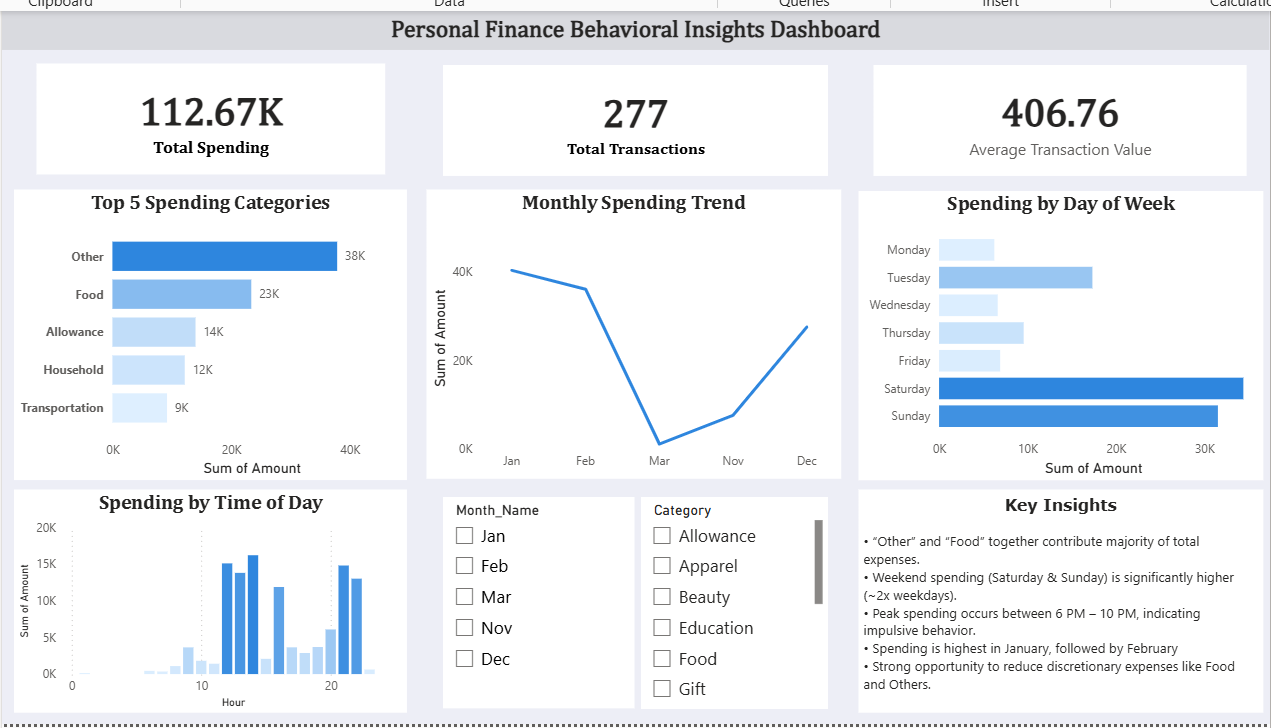

What the dashboard file says about the page in this screenshot:
{"tool":"powerbi","page":{"name":"Page 1","canvas":[1280,720],"ordinal":0},"visuals":[{"type":"textbox","box":[0,0,1279.5,39.4],"z":0},{"type":"card","fields":{"Values":["Sum(cleaned_expenses.Amount)"]},"box":[35,53.3,351.7,111.7],"z":1000},{"type":"card","fields":{"Values":["CountNonNull(cleaned_expenses.Total Transactions)"]},"box":[445,55,388.3,111.7],"z":2000},{"type":"card","fields":{"Values":["Avg(cleaned_expenses.Avg Transaction Value)"]},"box":[880,55,376.7,111.7],"z":3000},{"type":"clusteredBarChart","title":"Top 5 Spending Categories","fields":{"Category":["cleaned_expenses.Category"],"Y":["Sum(cleaned_expenses.Amount)"]},"box":[11.7,180,396.7,293.3],"z":4000},{"type":"lineChart","title":"Monthly Spending Trend","fields":{"Category":["cleaned_expenses.Month_Name"],"Y":["Sum(cleaned_expenses.Amount)"]},"box":[428.3,180,418.3,291.7],"z":5000},{"type":"clusteredBarChart","title":"Spending by Day of Week","fields":{"Category":["cleaned_expenses.Day_Name"],"Y":["Sum(cleaned_expenses.Amount)"]},"box":[865,181.7,408.3,291.7],"z":6000},{"type":"columnChart","title":"Spending by Time of Day","fields":{"Category":["cleaned_expenses.Hour"],"Y":["Sum(cleaned_expenses.Amount)"]},"box":[11.7,483.3,396.7,225],"z":7000},{"type":"slicer","fields":{"Values":["cleaned_expenses.Category"]},"box":[645,490,188.3,213.3],"z":8000},{"type":"textbox","box":[865,483.3,408.3,225],"z":9000},{"type":"slicer","fields":{"Values":["cleaned_expenses.Month_Name"]},"box":[445,490,193.3,213.3],"z":10000}]}

Visuals, with their boxes on the page's 1280x720 design canvas (x1, y1, x2, y2). These are canvas units, not pixel positions in the 1271x728 screenshot, which may show the page scaled, cropped or inside an application window:
textbox: select_region(0, 0, 1280, 39)
card - Sum(cleaned_expenses.Amount): select_region(35, 53, 387, 165)
card - CountNonNull(cleaned_expenses.Total Transactions): select_region(445, 55, 833, 167)
card - Avg(cleaned_expenses.Avg Transaction Value): select_region(880, 55, 1257, 167)
"Top 5 Spending Categories" clusteredBarChart: select_region(12, 180, 408, 473)
"Monthly Spending Trend" lineChart: select_region(428, 180, 847, 472)
"Spending by Day of Week" clusteredBarChart: select_region(865, 182, 1273, 473)
"Spending by Time of Day" columnChart: select_region(12, 483, 408, 708)
slicer - cleaned_expenses.Category: select_region(645, 490, 833, 703)
textbox: select_region(865, 483, 1273, 708)
slicer - cleaned_expenses.Month_Name: select_region(445, 490, 638, 703)
